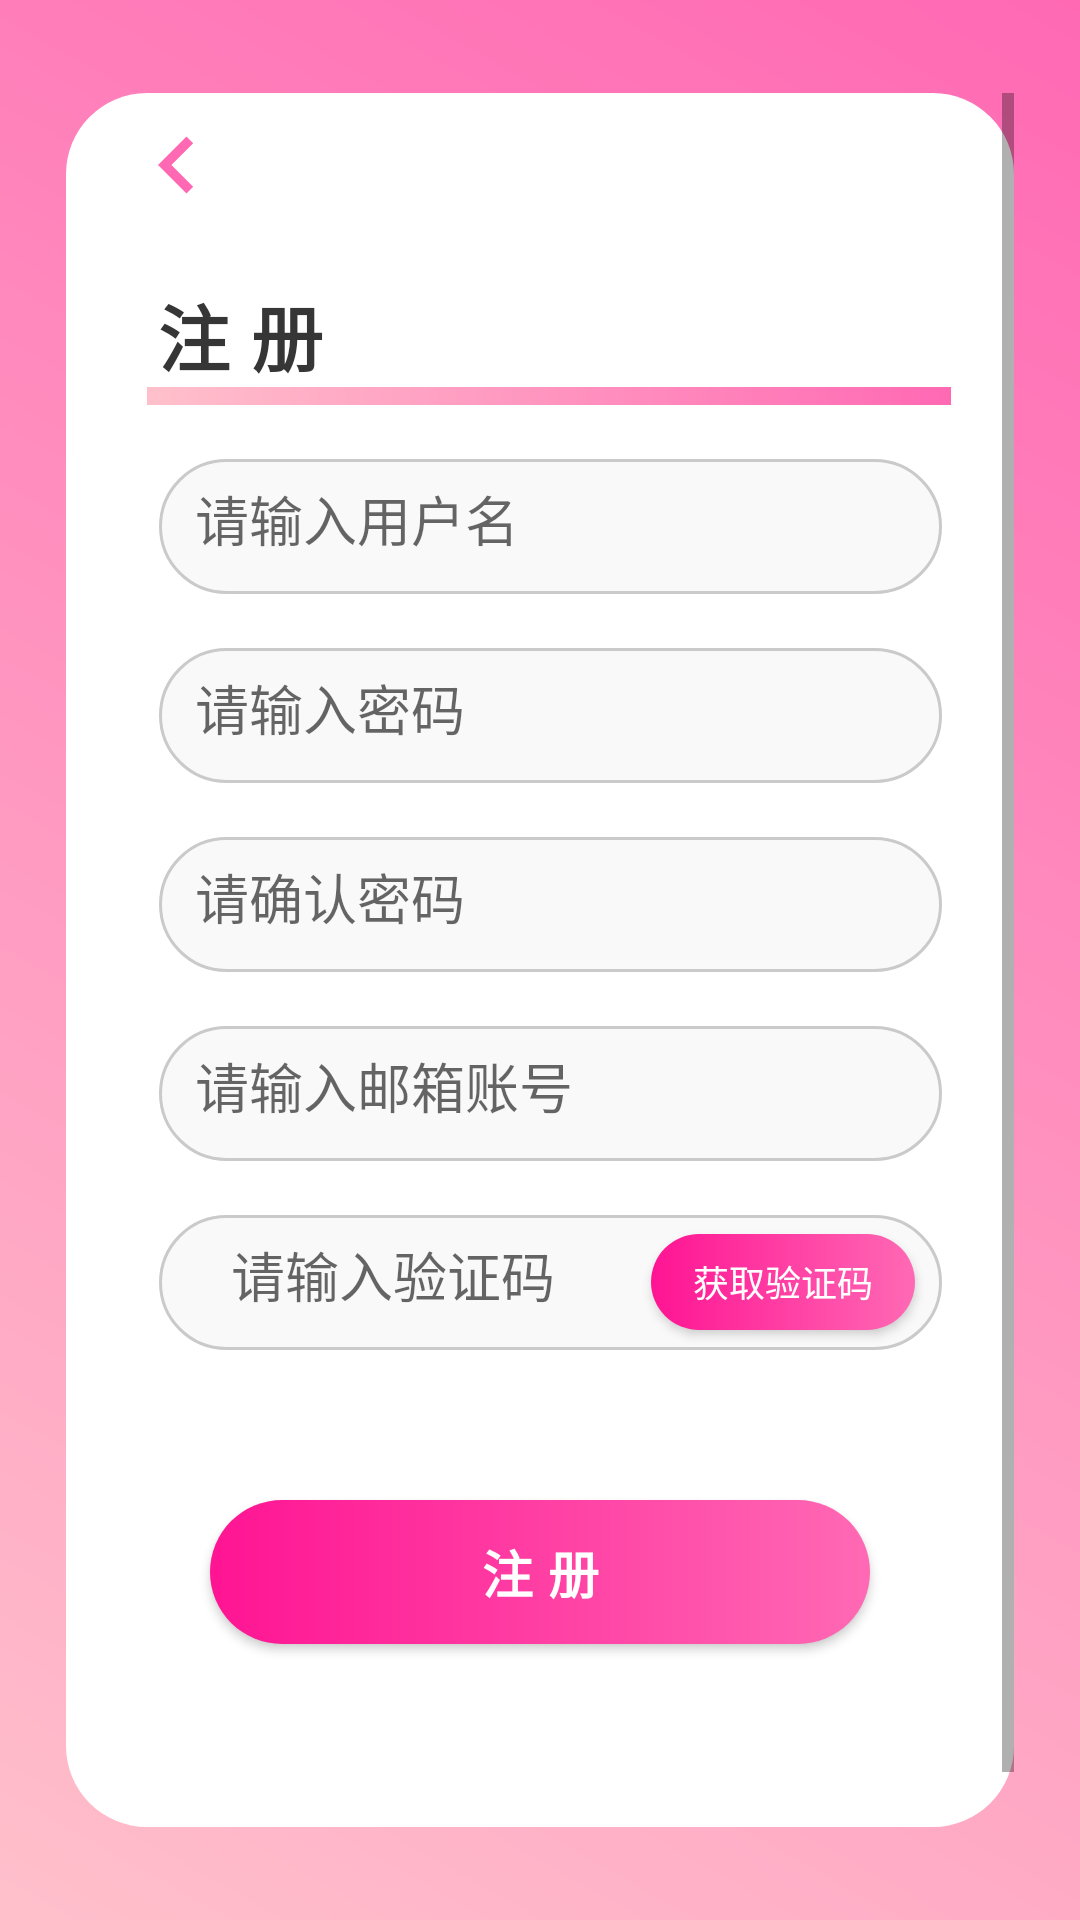

Named icons in this screenshot (1080x1920) and their centers, (x=x, y=y):
chevron left: (x=175, y=165)
